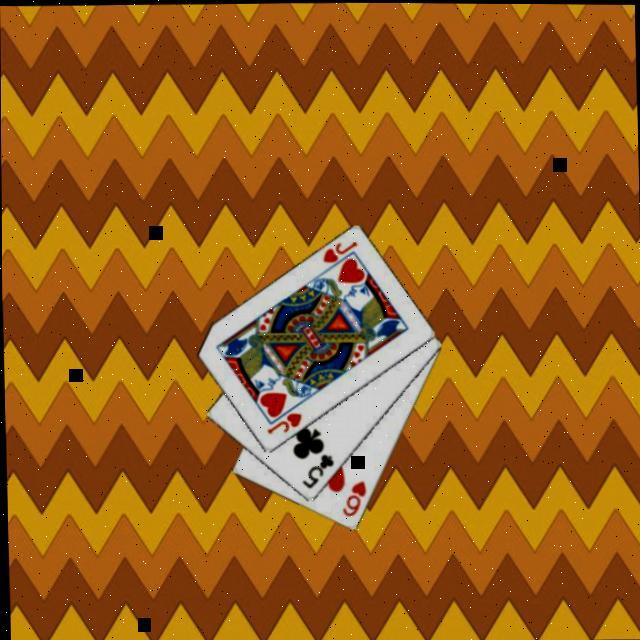5C: (298, 452, 338, 493)
6H: (339, 479, 370, 520)
JH: (265, 410, 305, 438), (321, 240, 361, 266)
